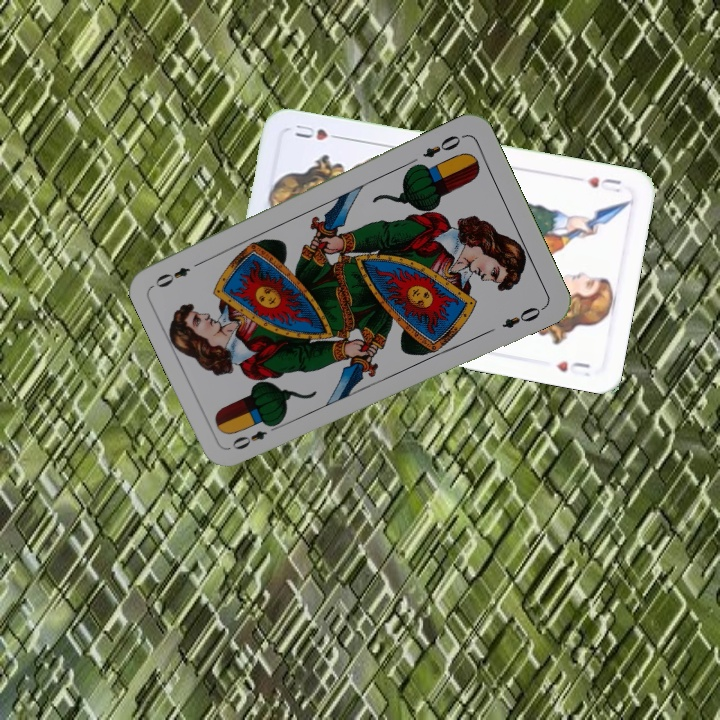EO: (228, 419, 282, 453), (418, 131, 464, 161)
HU: (583, 173, 624, 196)
